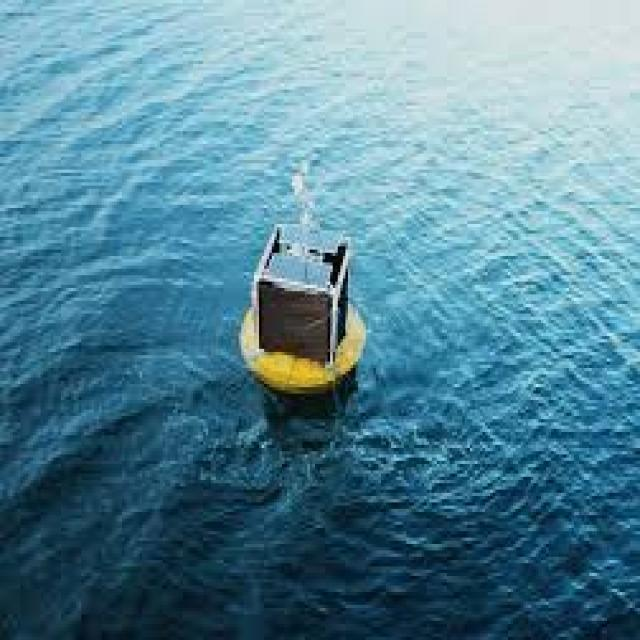marque: (234, 129, 371, 425)
